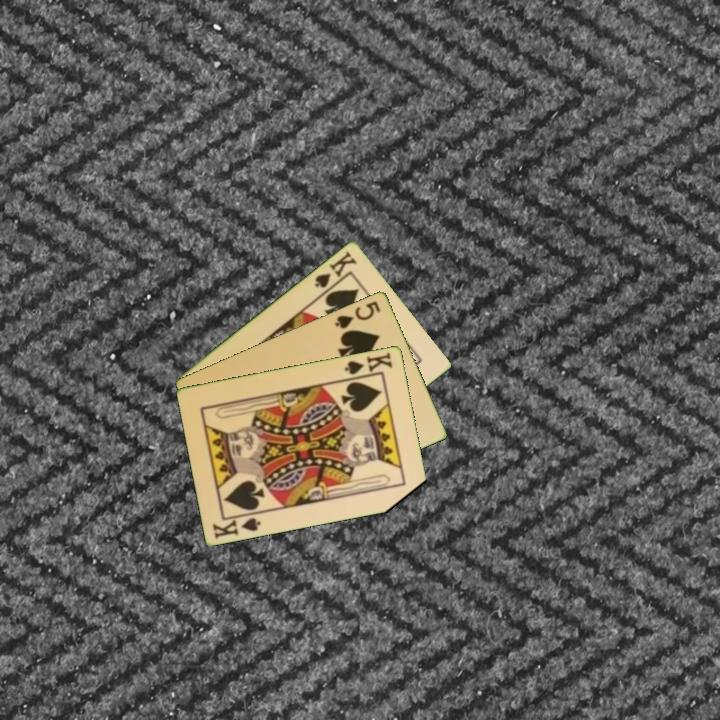5s: (331, 297, 384, 331)
Ks: (311, 247, 360, 296), (341, 348, 396, 381), (209, 509, 264, 541)
